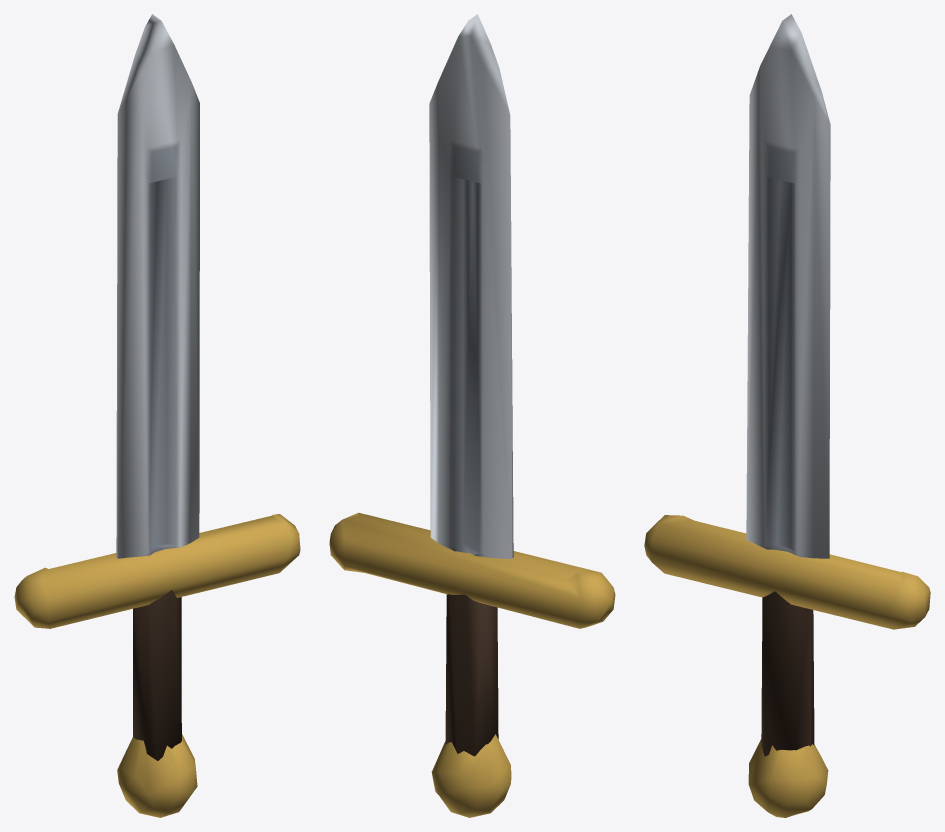
Rendered from fighter-sword.glb.
The picture shows the model from 3 angles, left to right: view 1: azimuth 30°, elevation 25°; view 2: azimuth 150°, elevation 25°; view 3: azimuth 330°, elevation 25°; orthographic projection.
Visible parts, largest first — view 1: sword; view 2: sword; view 3: sword.
Part boxes in pixels (x1,y1,x2,y2): sword: (14, 14, 300, 817); sword: (329, 14, 615, 817); sword: (644, 14, 930, 817).
Size of the model in its own units: 0.1594 by 0.4387 by 0.0408.
Materials: 1 (1 with a texture image).
